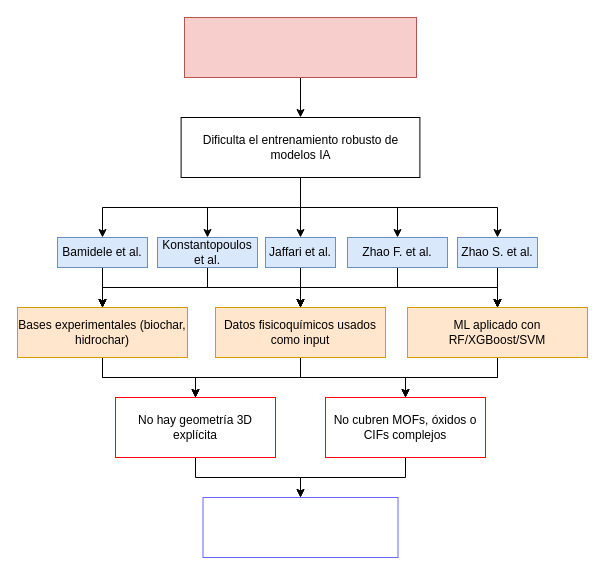
The diagram is 605 pixels wide and 575 high, and some of its shapes have lost their labels. Here are the shapes that lost their labels. From the top down, the centre of each, then its label:
At point 300,47: "Problema: Limitaciones en bases de datos y entrenamiento de modelos de IA".
At point 300,527: "Falta curación automatizada de estructuras y datos multi-fuente".
